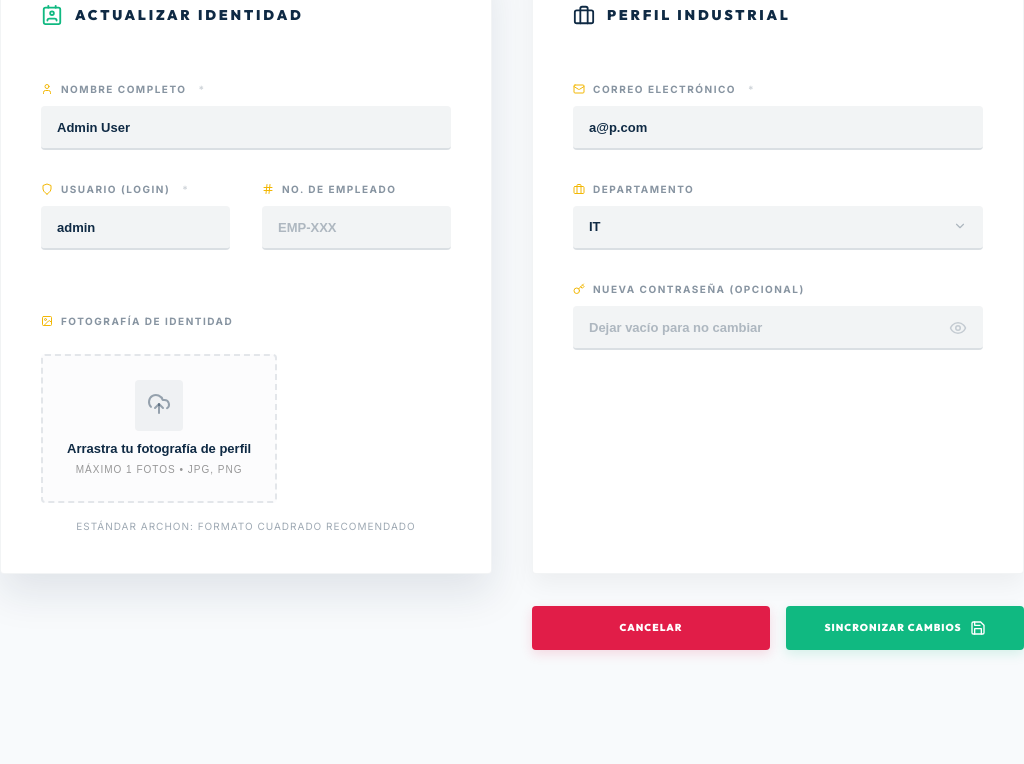
Test case: UserRegistrationForm (Sentinel Identity) › handles critical failure in handleConfirmAudit
(page scrolled)
Submit the form with test id "registration-form"
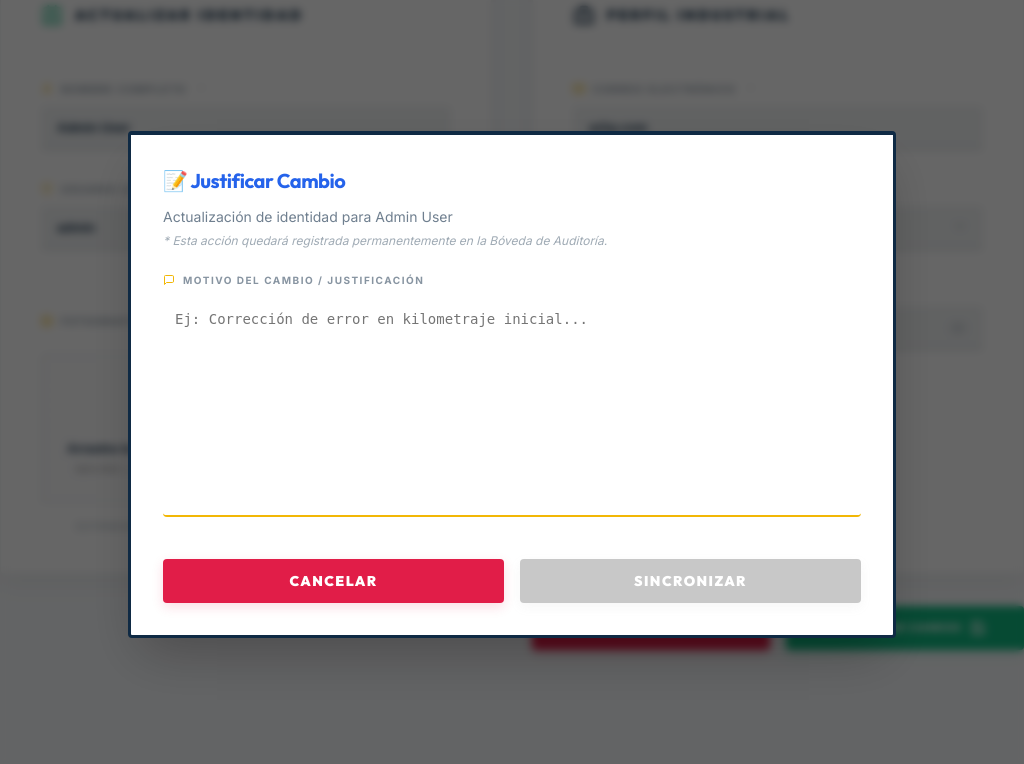
Type "Valid update" into the text box with placeholder "Ej: Corrección de error en kilometraje inicial..." at (512, 406), box left=163, top=296, right=861, bottom=516
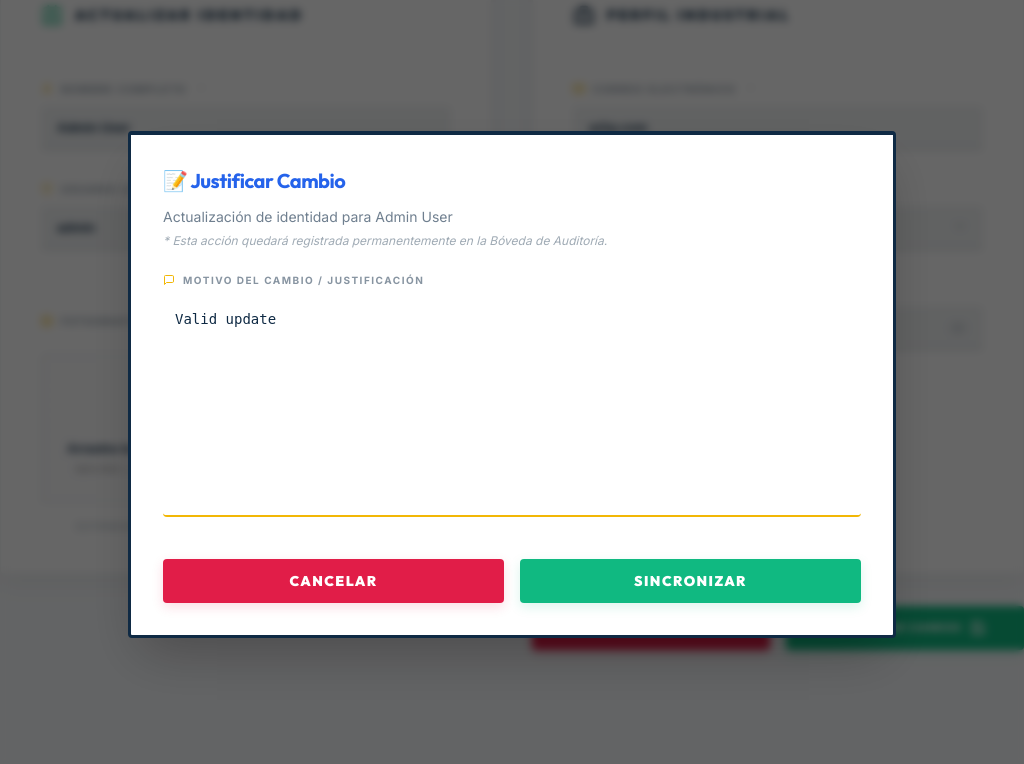
Click the button "Sincronizar" at (690, 580), box left=520, top=558, right=861, bottom=602
(page scrolled)
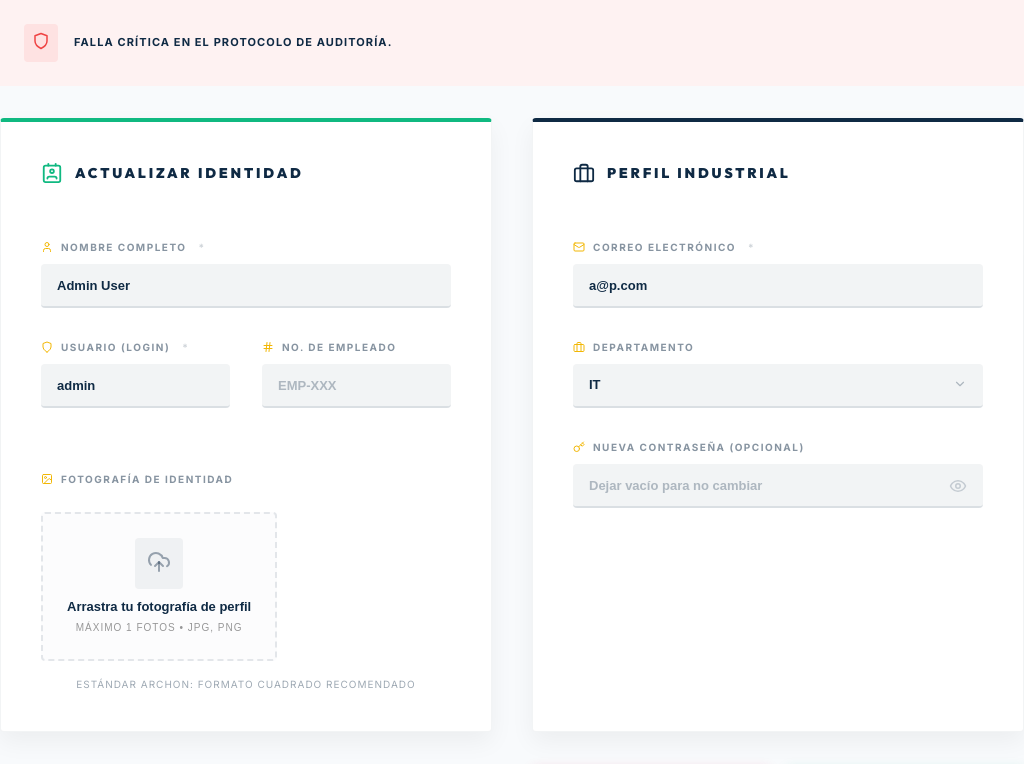
Now the text "Falla crítica en el protocolo de auditoría." is shown, box left=74, top=35, right=392, bottom=51
